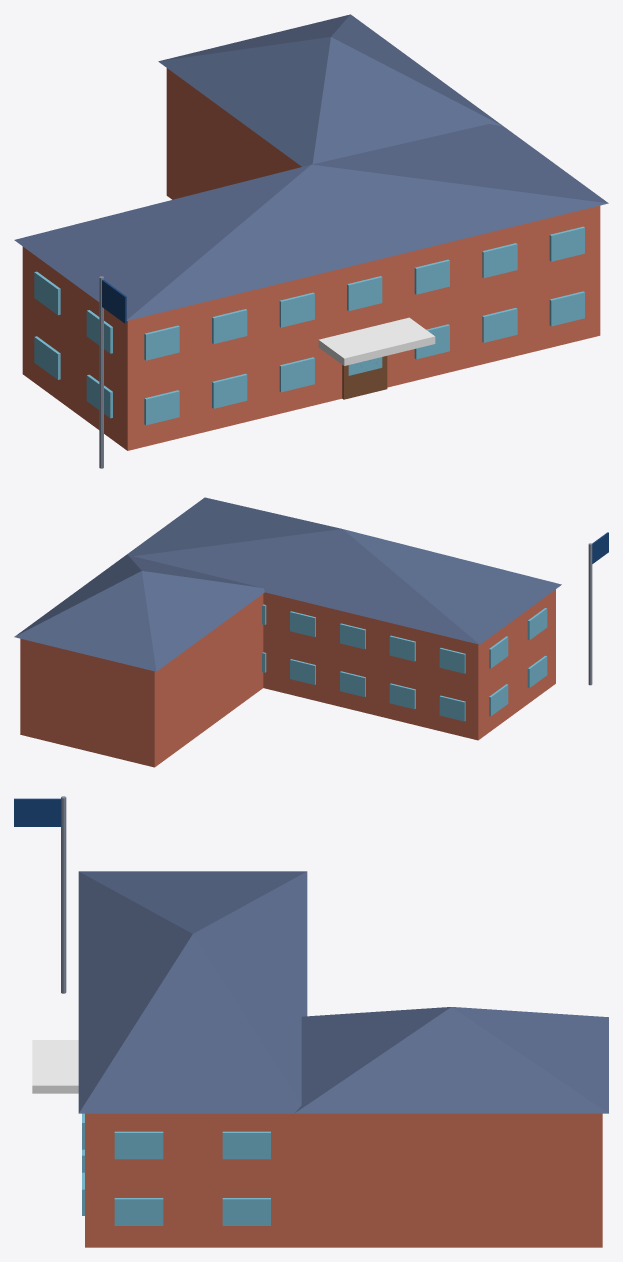
The model's file is school.glb.
The picture shows the model from 3 angles, top to bottom: view 1: azimuth 30°, elevation 25°; view 2: azimuth 150°, elevation 25°; view 3: azimuth 270°, elevation 25°; orthographic projection. The views are drawn at different scales.
Visible parts, largest first — view 1: school_roof_slate, school_brick, school_window, school_white, school_door, school_metal, school_garda_blue; view 2: school_brick, school_roof_slate, school_window, school_metal; view 3: school_roof_slate, school_brick, school_window, school_white, school_garda_blue, school_metal.
Boxes of the visible parts, x1,y1,x2,y2 form: school_roof_slate: (14,14,608,320); school_brick: (22,68,600,450); school_window: (34,226,584,425); school_white: (318,317,435,365); school_door: (342,356,387,399); school_metal: (99,276,103,468); school_garda_blue: (102,280,126,323); school_brick: (20,589,555,767); school_roof_slate: (14,497,561,671); school_window: (262,604,547,721); school_metal: (588,543,592,685); school_roof_slate: (78,871,608,1113); school_brick: (85,1113,602,1247); school_window: (82,1113,270,1225); school_white: (32,1040,78,1093); school_garda_blue: (14,798,61,826); school_metal: (61,796,66,993).
Bounding box in the file's own units: 28.42 × 10 × 27.6.
